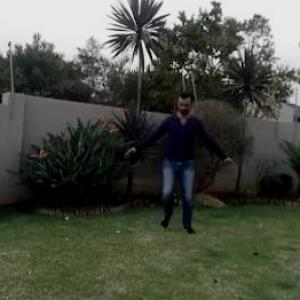land: (113, 84, 229, 230)
